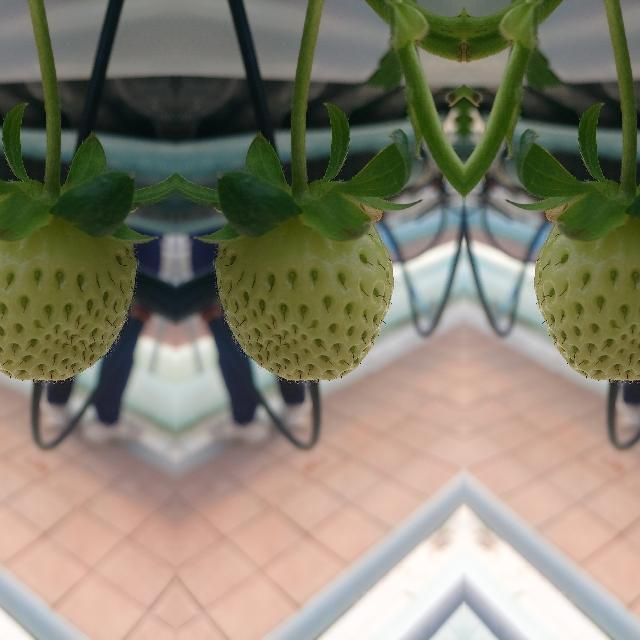Health_25: (213, 216, 393, 380), (0, 215, 137, 380), (533, 215, 640, 380)
